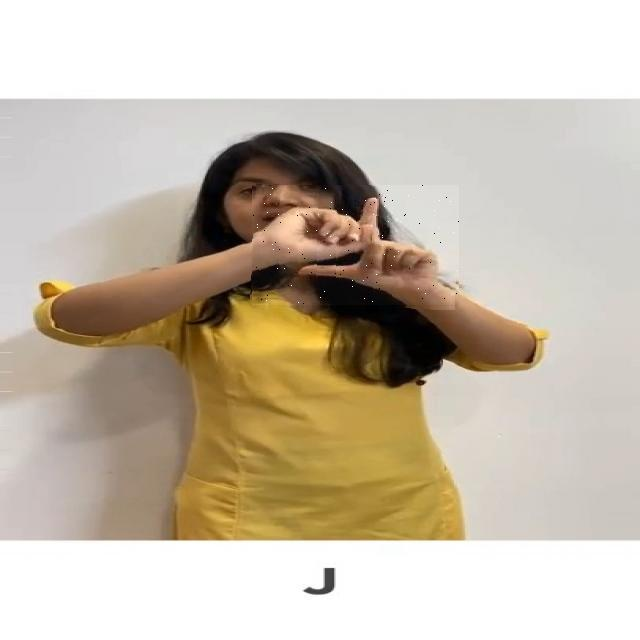J: (252, 185, 459, 308)
